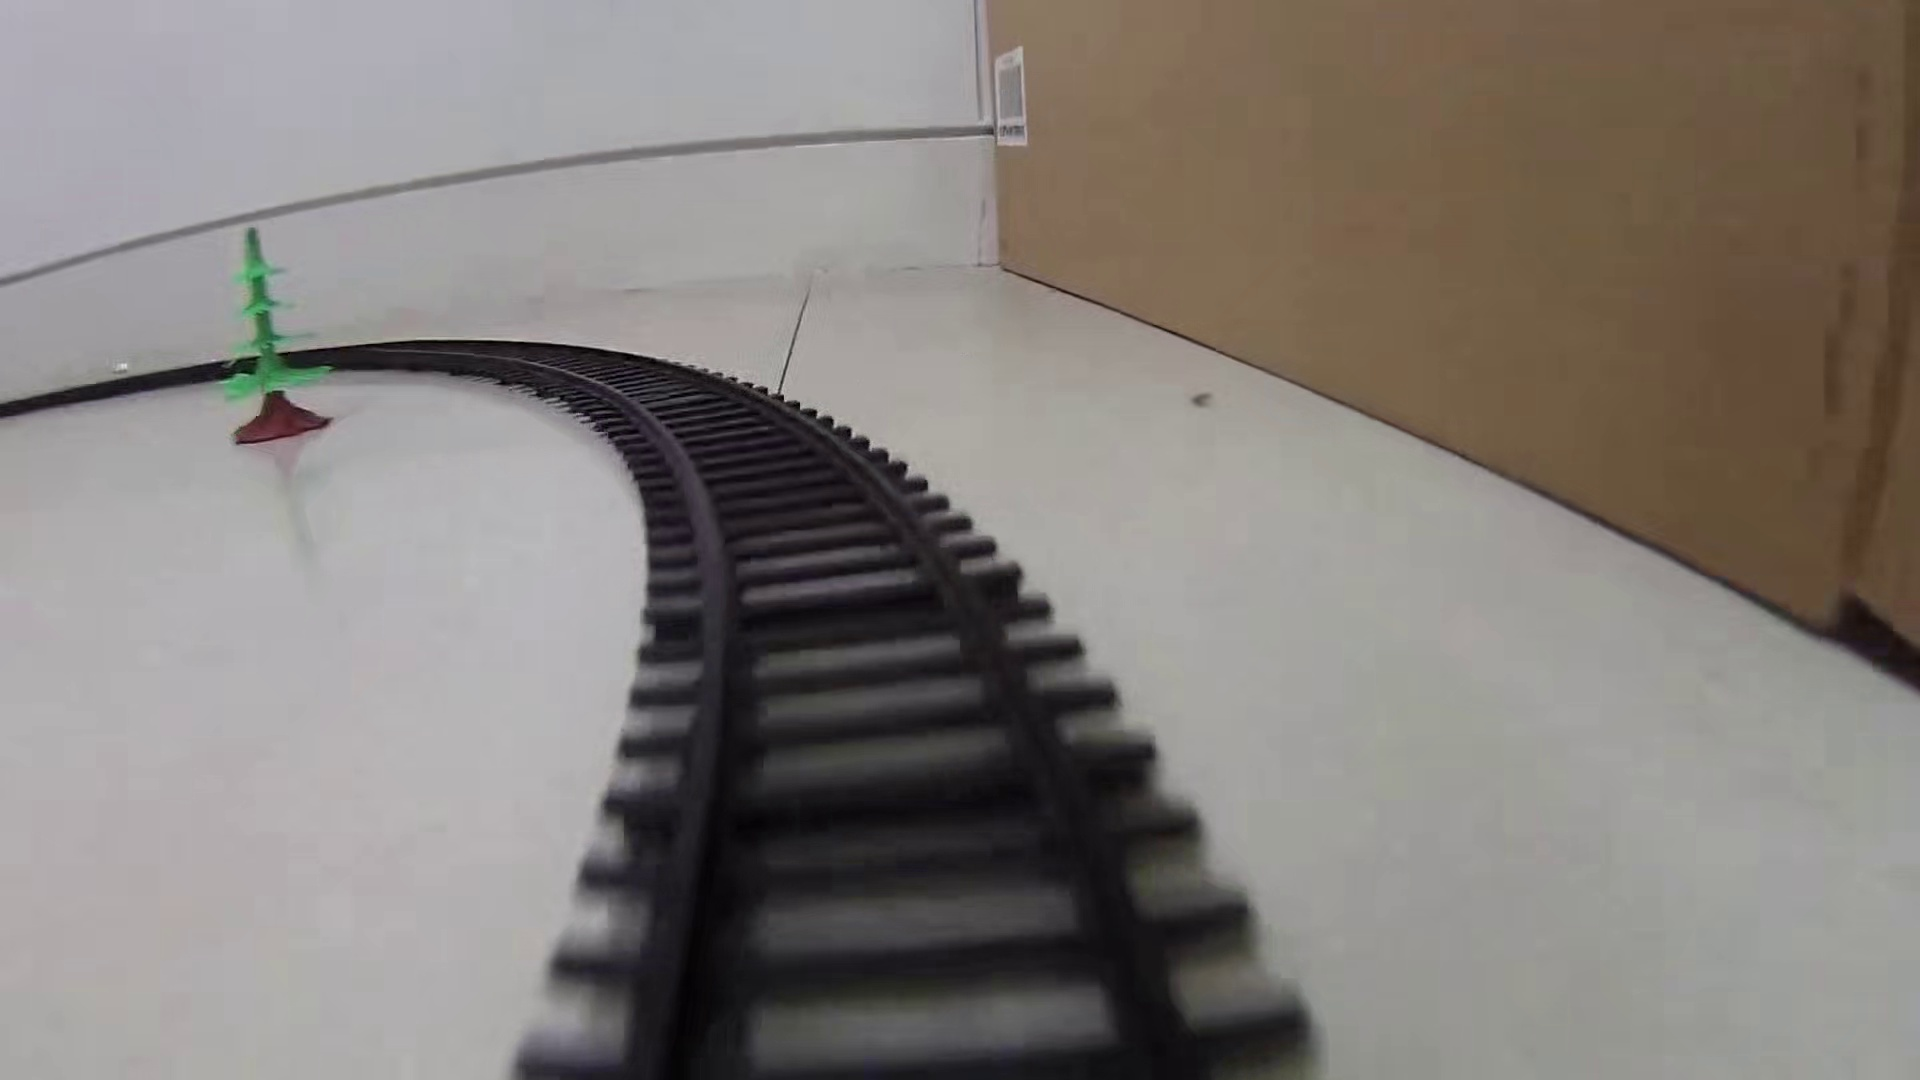tree: (217, 224, 335, 449)
